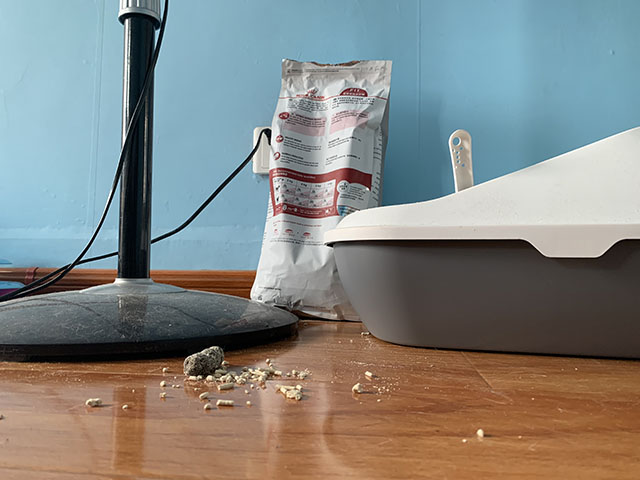feces: (180, 345, 225, 377)
wire: (1, 1, 271, 300)
